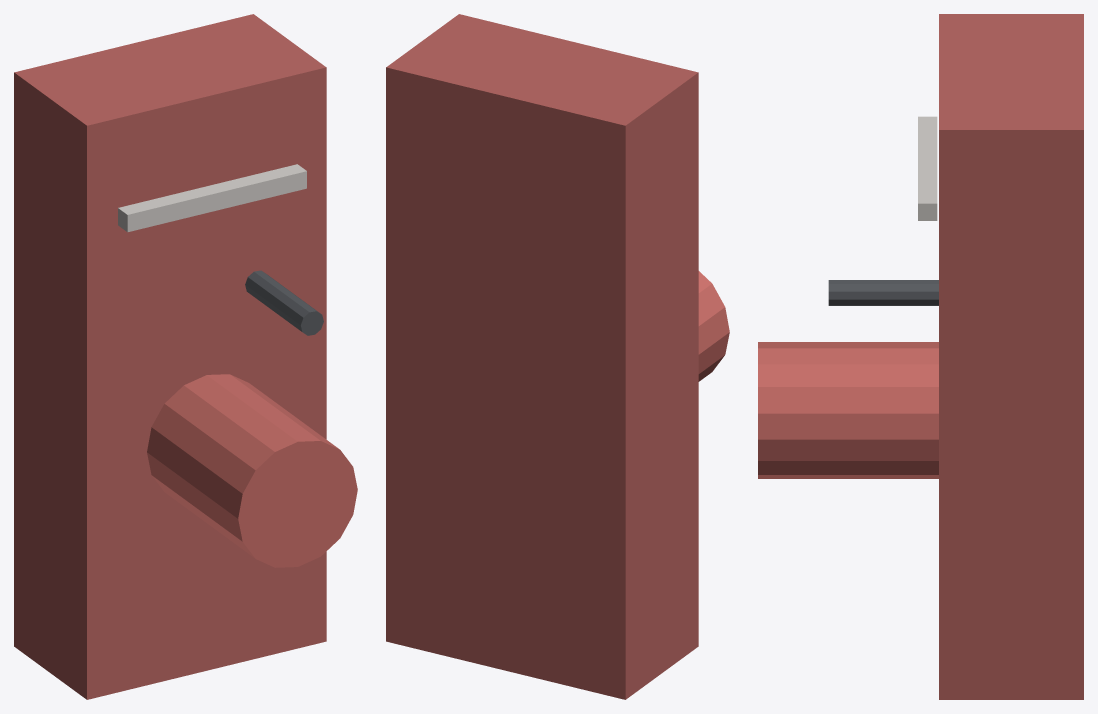
File: extinguisher_cabinet_lod1.glb
The picture shows the model from 3 angles, left to right: view 1: azimuth 30°, elevation 25°; view 2: azimuth 150°, elevation 25°; view 3: azimuth 270°, elevation 25°; orthographic projection.
Parts seen in each view (by area): view 1: part_0, part_1, part_2, part_3; view 2: part_0, part_1; view 3: part_0, part_1, part_3, part_2.
Boxes of the visible parts, x1,y1,x2,y2 form: part_0: (14, 14, 326, 699); part_1: (147, 374, 357, 567); part_2: (118, 164, 306, 232); part_3: (245, 270, 323, 335); part_0: (386, 14, 698, 699); part_1: (698, 271, 729, 381); part_0: (939, 14, 1083, 699); part_1: (758, 342, 938, 478); part_3: (828, 280, 938, 305); part_2: (918, 116, 937, 220).
Bounding box in the file's own units: 0.72 × 1.65 × 0.855.
